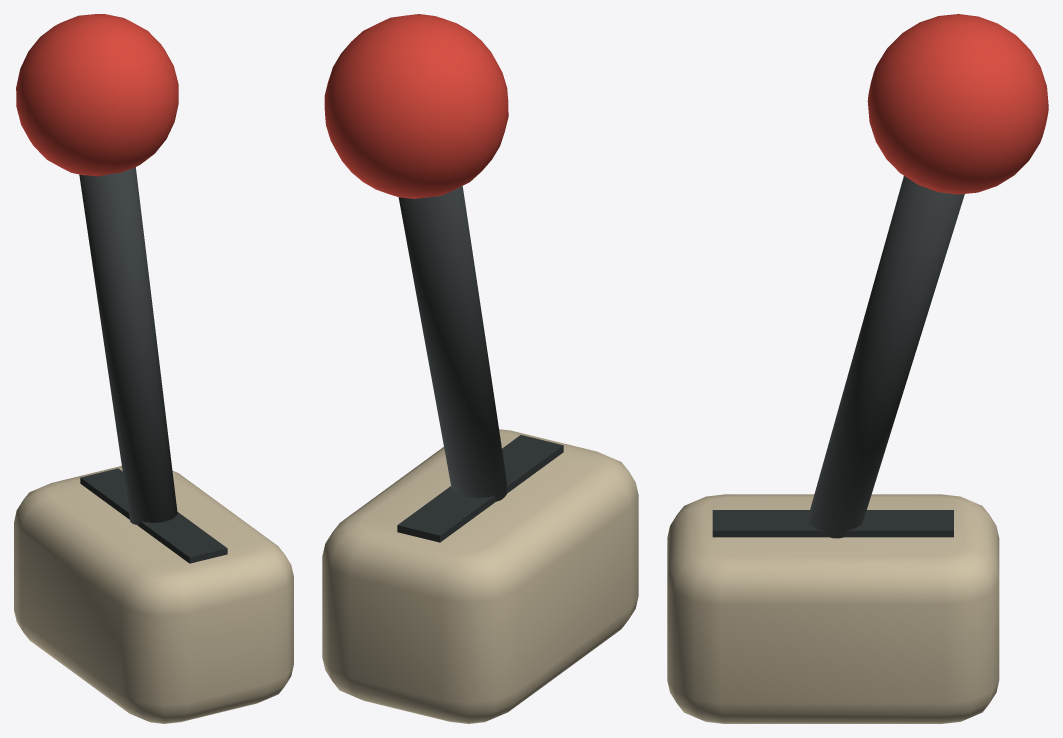
Rendered from lever.glb.
3 views of the same model, side by side, from view 1: azimuth 30°, elevation 25°; view 2: azimuth 150°, elevation 25°; view 3: azimuth 270°, elevation 25° (orthographic). The views are drawn at different scales.
Parts seen in each view (by area): view 1: Housing, Knob, Arm, Slot; view 2: Housing, Knob, Arm, Slot; view 3: Housing, Knob, Arm, Slot.
Part boxes in pixels (x1,y1,x2,y2): Housing: [14, 466, 293, 723]; Knob: [16, 14, 178, 176]; Arm: [79, 167, 177, 524]; Slot: [80, 468, 227, 563]; Housing: [322, 429, 638, 723]; Knob: [324, 14, 508, 198]; Arm: [398, 186, 507, 501]; Slot: [397, 435, 563, 542]; Housing: [667, 494, 999, 723]; Knob: [867, 14, 1048, 194]; Arm: [807, 176, 964, 538]; Slot: [712, 510, 953, 537].
Bounding box in the file's own units: 0.07 × 0.2445 × 0.1264.
